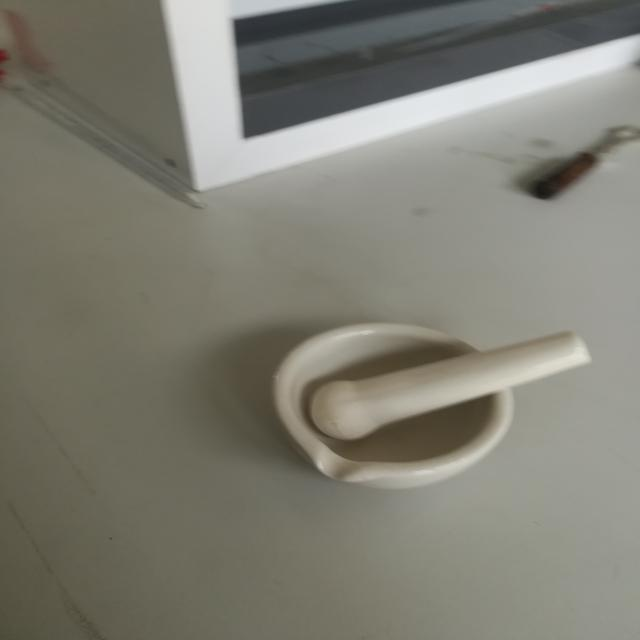Porcelain_Mortar Pestle: (239, 285, 599, 534)
